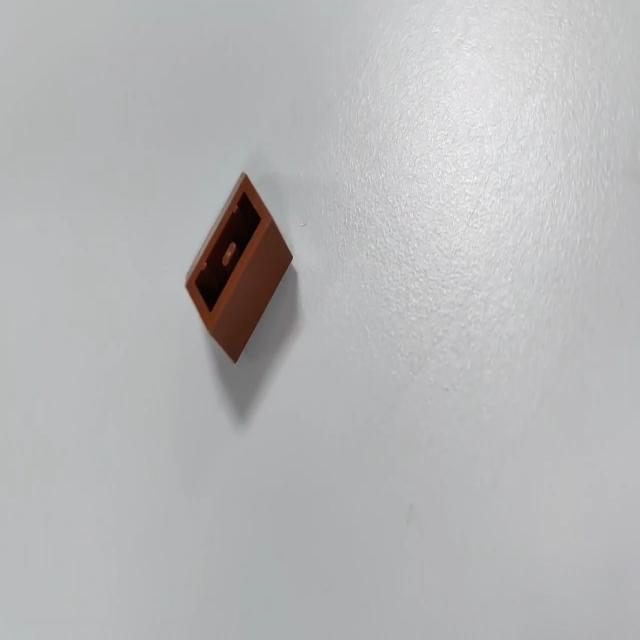X2x2x1: (184, 169, 294, 363)
